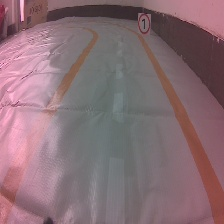limit: (136, 11, 153, 38)
